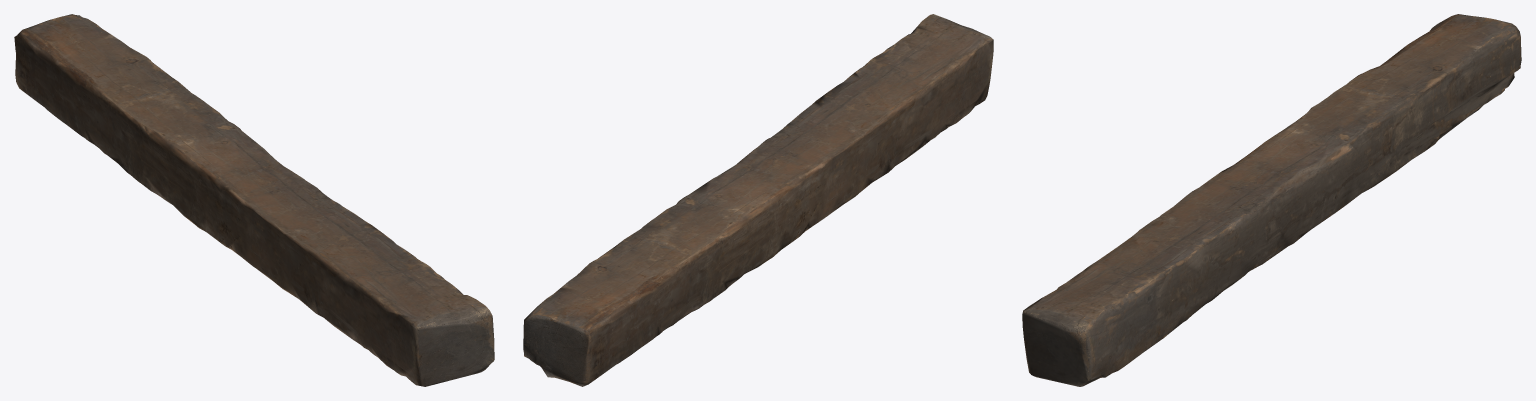
The model's file is Wooden_plank_v2_LOD1.fbx.
3 renders of one model, left to right at view 1: azimuth 30°, elevation 25°; view 2: azimuth 150°, elevation 25°; view 3: azimuth 330°, elevation 25°, orthographic. The views are drawn at different scales.
Parts seen in each view (by area): view 1: Aset_building_beam_L_vkbfdekqx_00_LOD3.018; view 2: Aset_building_beam_L_vkbfdekqx_00_LOD3.018; view 3: Aset_building_beam_L_vkbfdekqx_00_LOD3.018.
Boxes of the visible parts, <box> form: Aset_building_beam_L_vkbfdekqx_00_LOD3.018: <box>14,14,494,386</box>; Aset_building_beam_L_vkbfdekqx_00_LOD3.018: <box>523,14,993,386</box>; Aset_building_beam_L_vkbfdekqx_00_LOD3.018: <box>1022,14,1521,386</box>.
Bounding box in the file's own units: 10.69 × 9.49 × 98.93.
